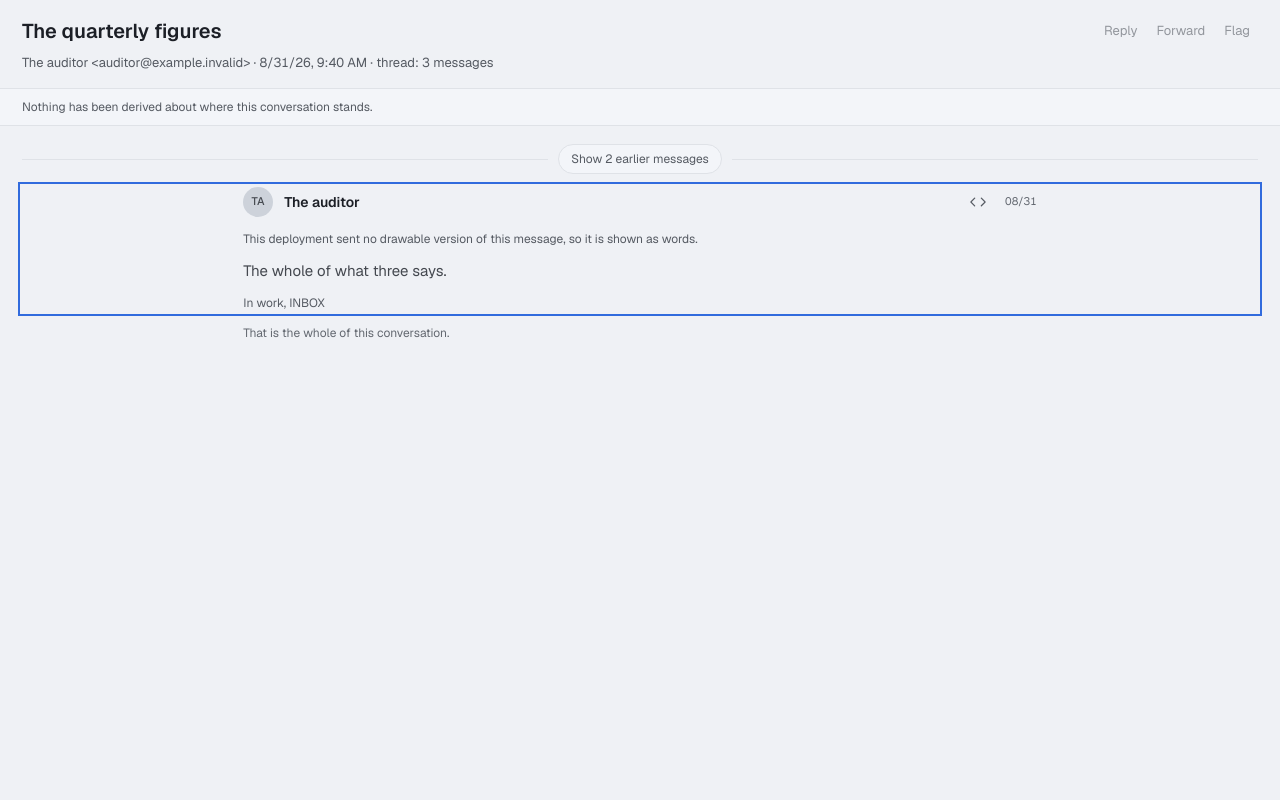
Scenario: Thread › reveals the history without asking the deployment for anything
Step 1. Click the button "Show 2 earlier messages" → x=640, y=159, box [558,144,722,174]
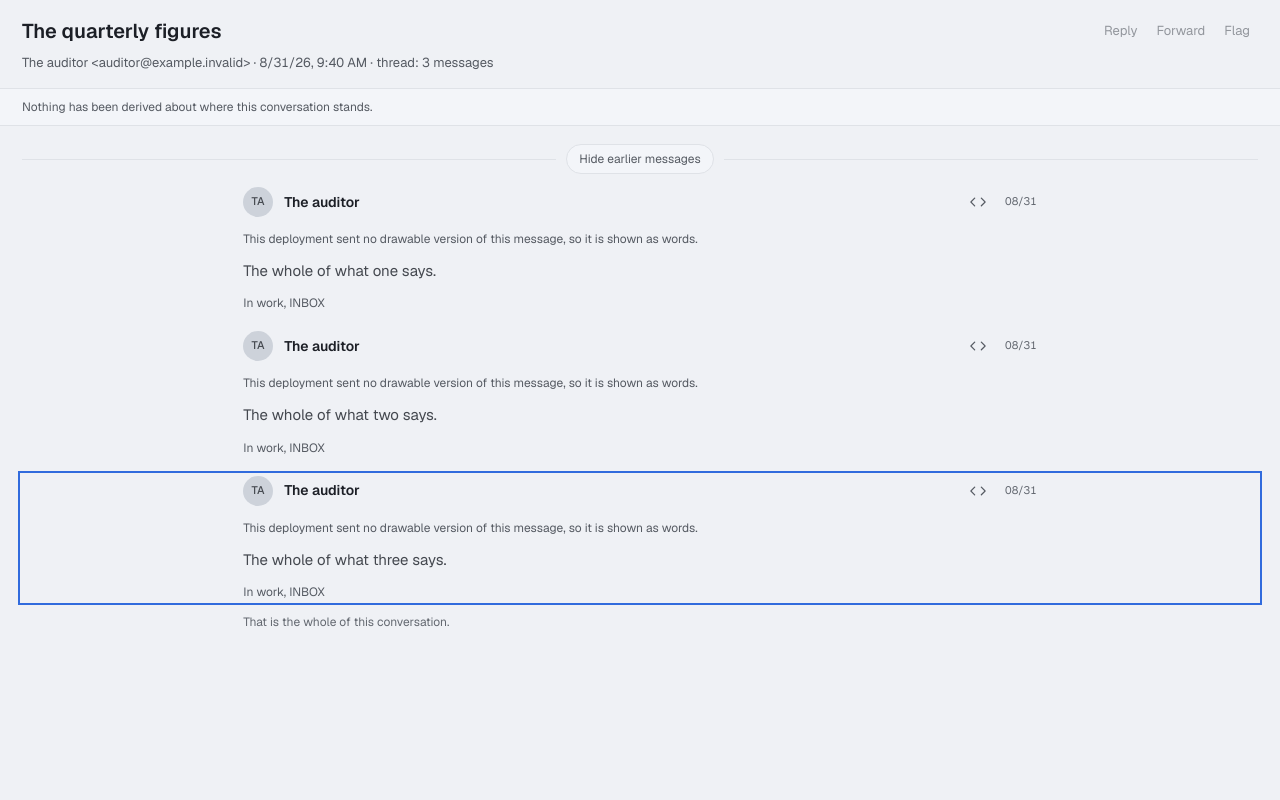
Result: the text "The whole of what one says." is shown at [243,261,436,280]
